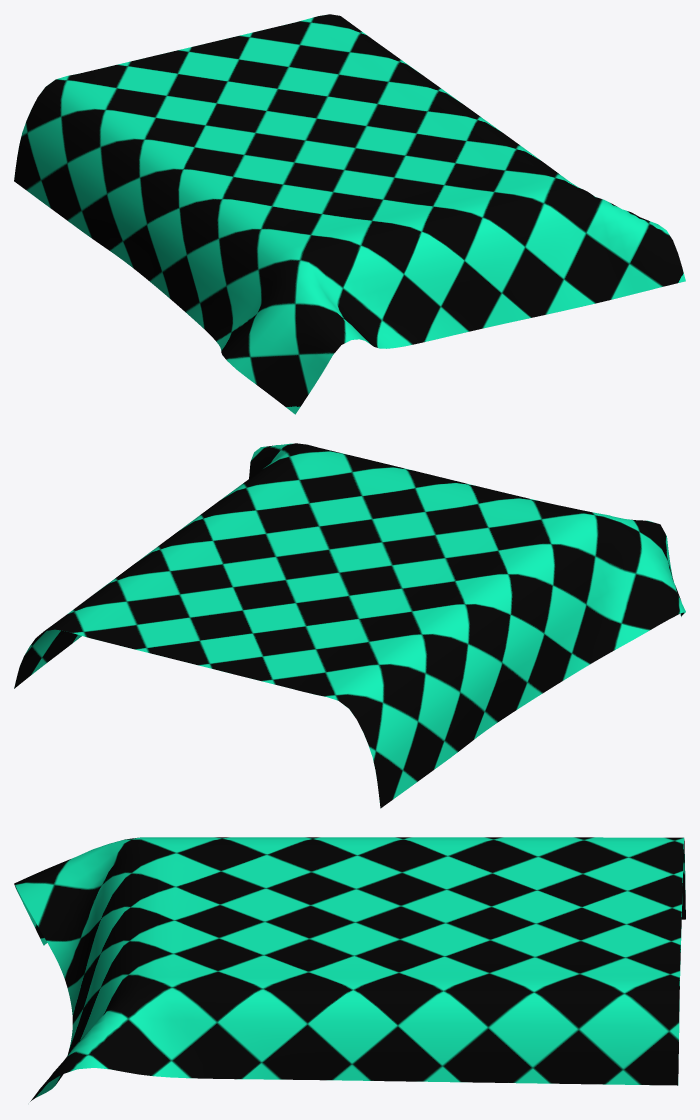
File: Blanket.obj
3 views of the same model, one above another, from view 1: azimuth 30°, elevation 25°; view 2: azimuth 150°, elevation 25°; view 3: azimuth 270°, elevation 25° (orthographic). The views are drawn at different scales.
Size of the model in its own units: 115 by 31.2 by 141.
